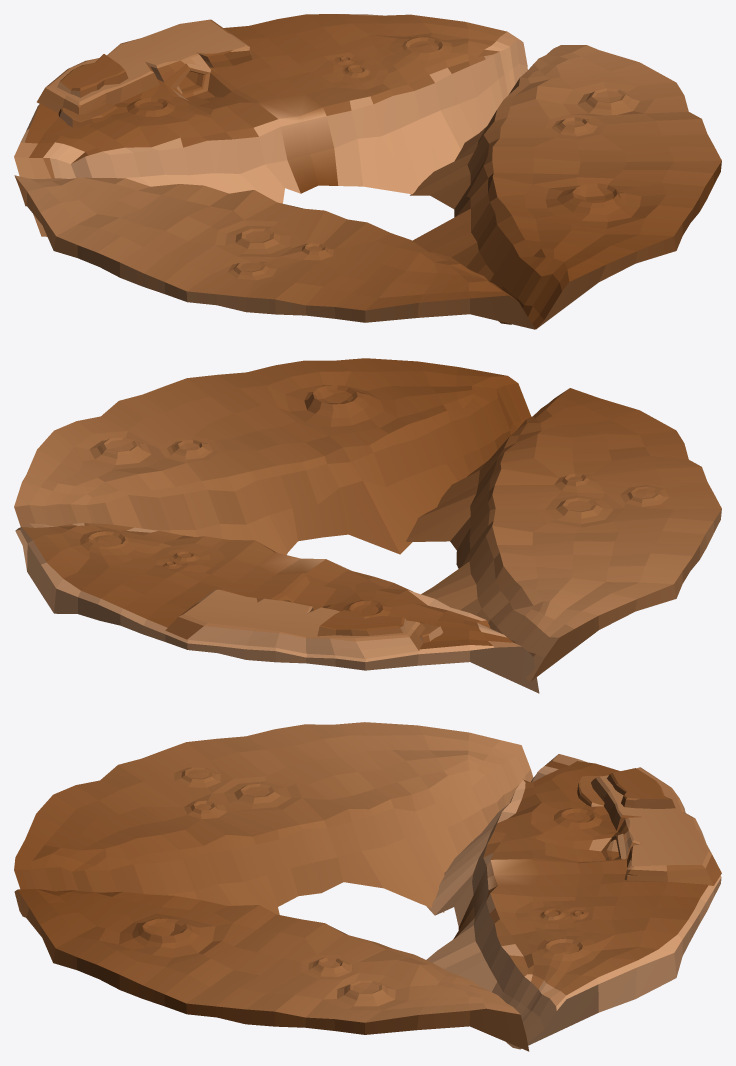
Rendered from PLATFORM_MAIN.glb.
The picture shows the model from 3 angles, top to bottom: view 1: azimuth 30°, elevation 25°; view 2: azimuth 150°, elevation 25°; view 3: azimuth 270°, elevation 25°; orthographic projection.
Parts seen in each view (by area): view 1: PLATFORM_MAIN; view 2: PLATFORM_MAIN; view 3: PLATFORM_MAIN.
Part boxes in pixels (<box>): PLATFORM_MAIN: <box>14,14,721,329</box>; PLATFORM_MAIN: <box>14,358,721,693</box>; PLATFORM_MAIN: <box>14,722,721,1051</box>.
Size of the model in its own units: 18.68 by 2.7 by 18.38.
1 material, 1 textured.
